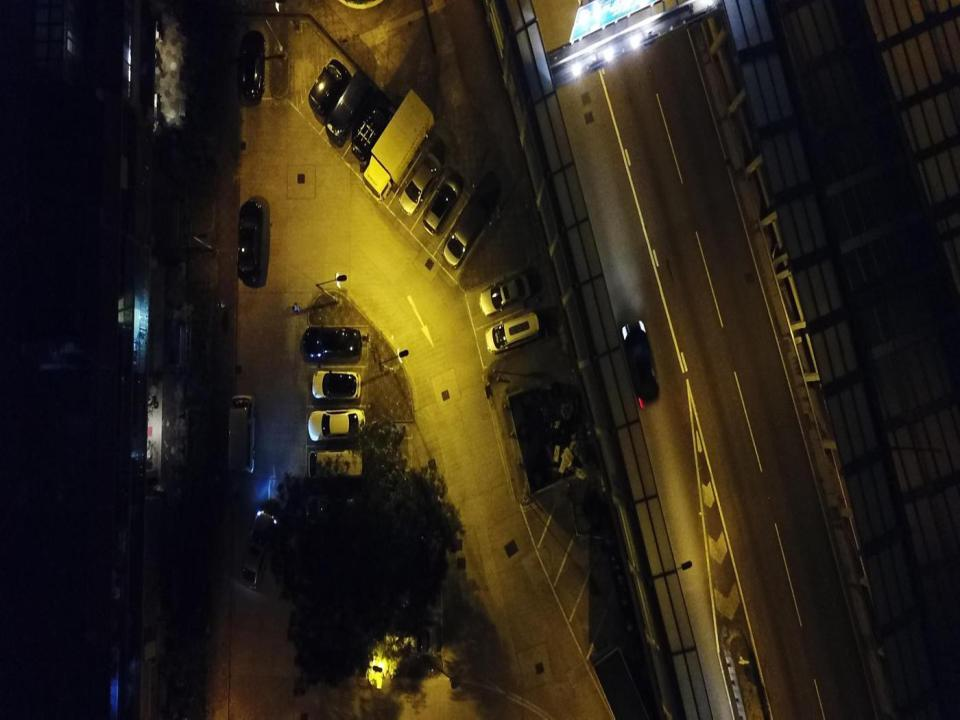bus: (228, 393, 255, 473)
car: (620, 319, 660, 406), (239, 510, 278, 590), (398, 150, 444, 215), (422, 172, 463, 236), (351, 102, 394, 163), (308, 58, 350, 116), (236, 198, 264, 282), (479, 272, 532, 316), (302, 327, 362, 362), (308, 408, 367, 442), (304, 494, 360, 526), (241, 28, 265, 100), (311, 368, 362, 401), (308, 450, 363, 479)
truck: (363, 88, 435, 204)
van: (325, 67, 379, 146), (441, 198, 488, 268), (485, 310, 541, 354)
